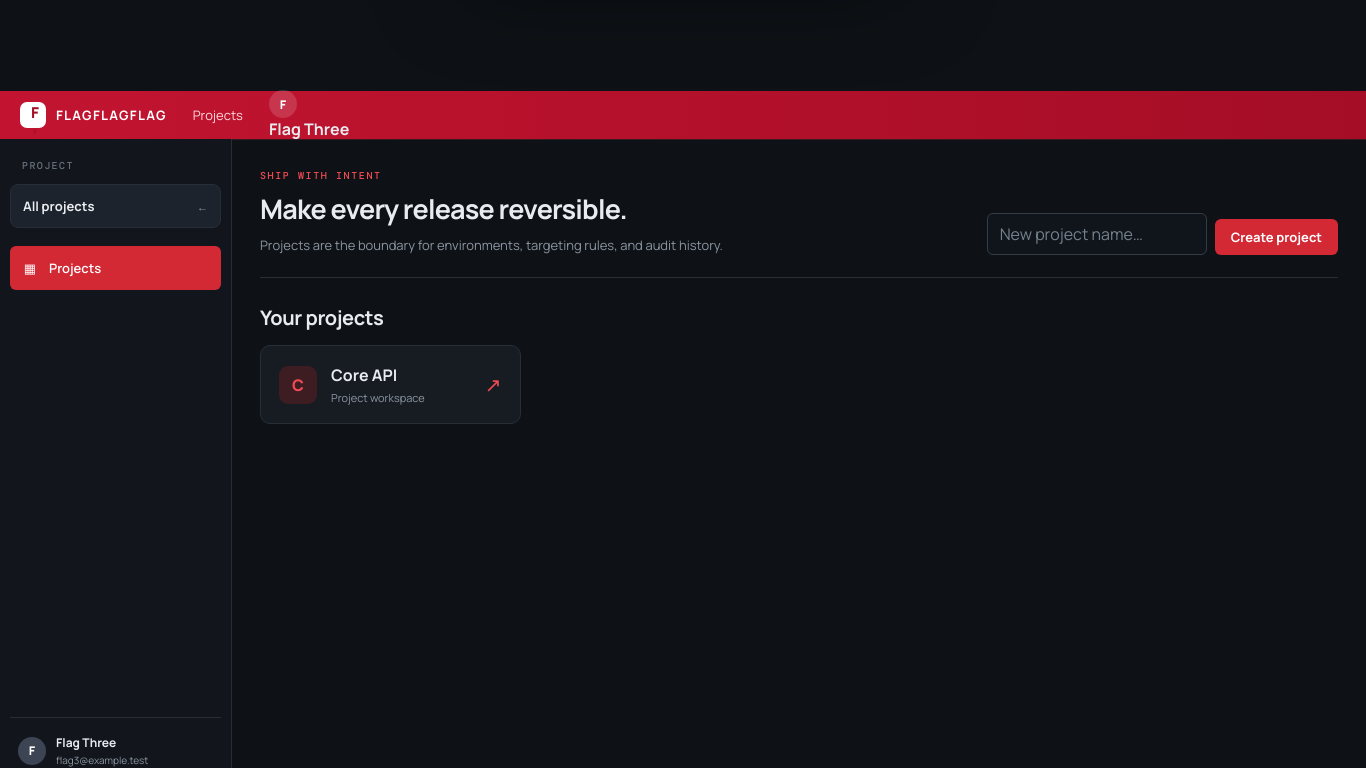
Scenario: admin control plane › creates, renames, selects, and deletes environments from the rendered workspace
(page scrolled)
expect the text "Core API" is shown: met, box [331,364,397,386]
Click the button "C Core API Project workspace ↗" at coordinates (390, 385), box [260,345,520,424]
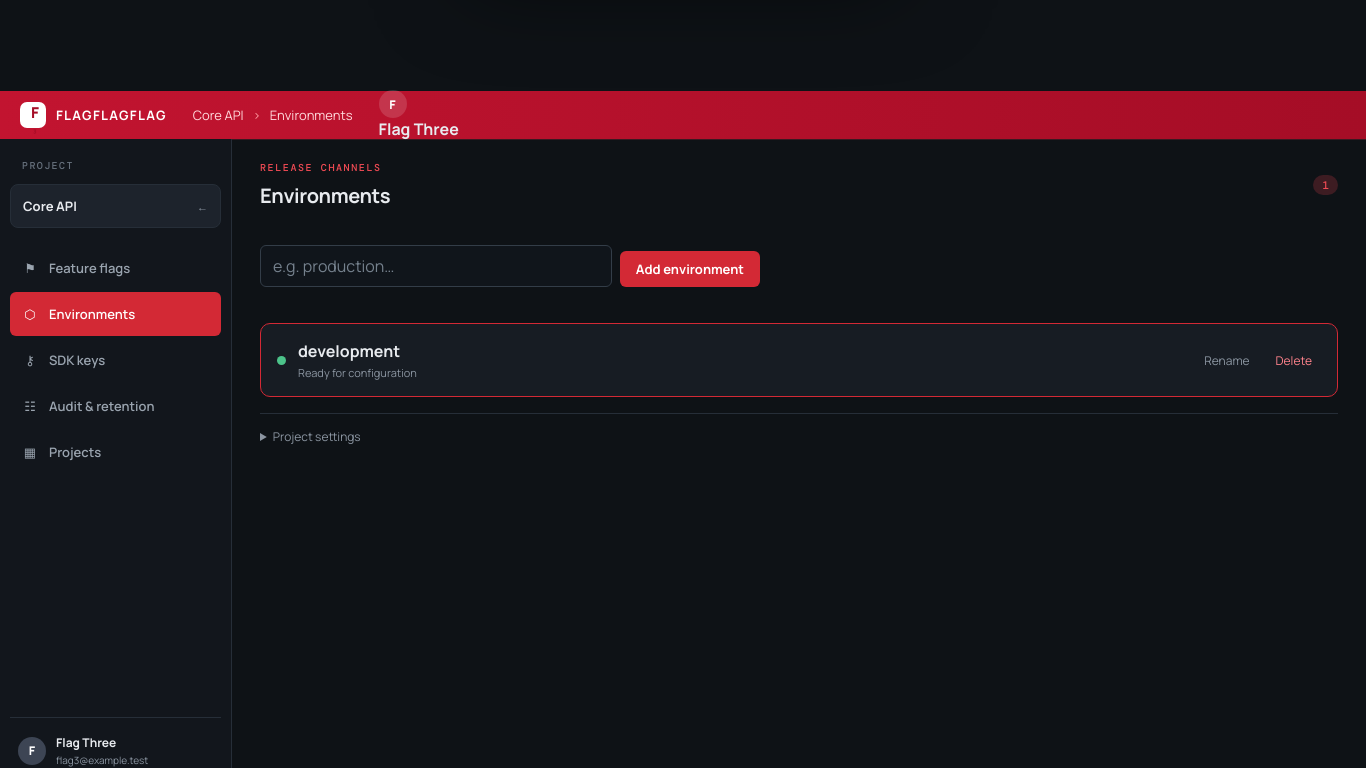
expect the text "development" is shown: met, box [298,340,417,362]
Type "staging" into the field named "Environment name" at coordinates (436, 266), box [260,245,612,287]
Click the button "Add environment" at coordinates (690, 269), box [620,251,760,287]
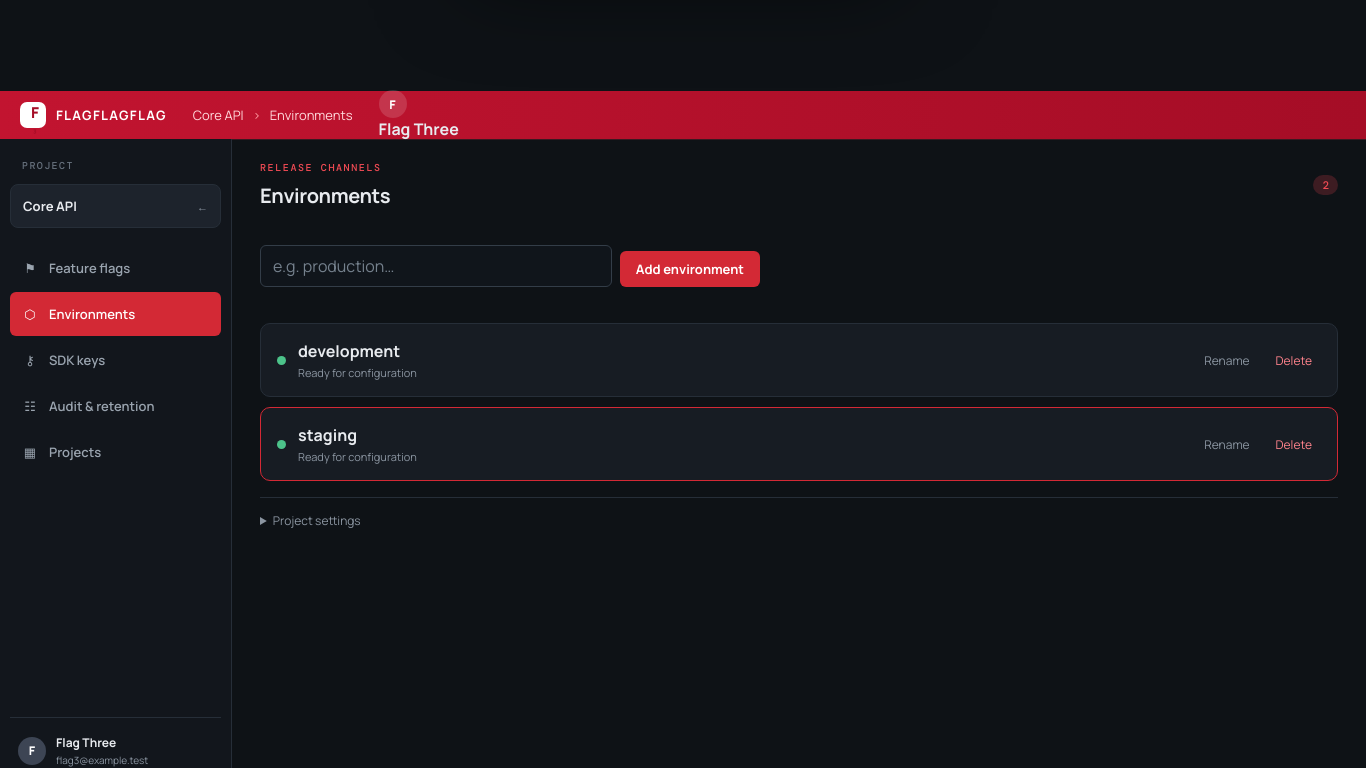
expect the text "staging" is shown: met, box [298,424,357,446]
Click the 1st button "Rename" at coordinates (1227, 360), box [1195,338,1258,382]
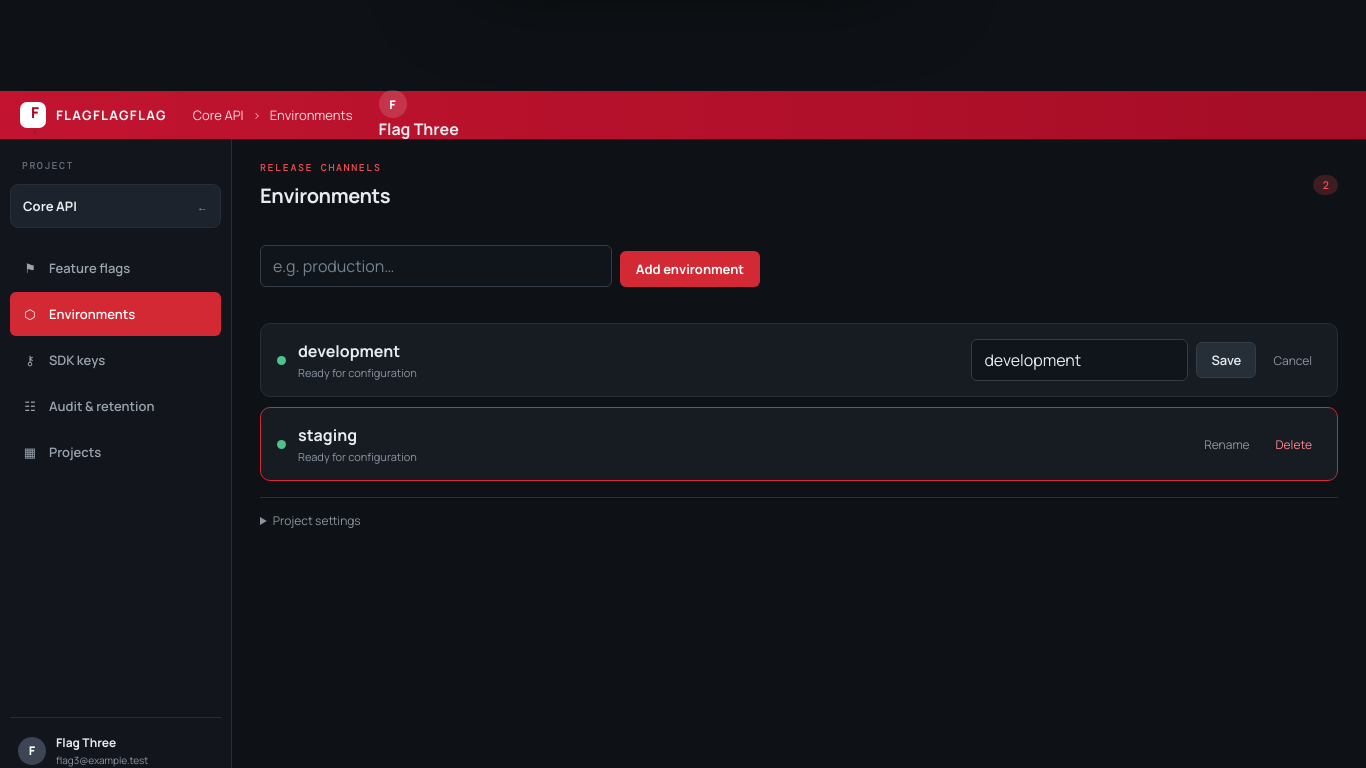
Replace the text in the field named "New name" with "preview" at coordinates (1080, 360), box [971,339,1188,381]
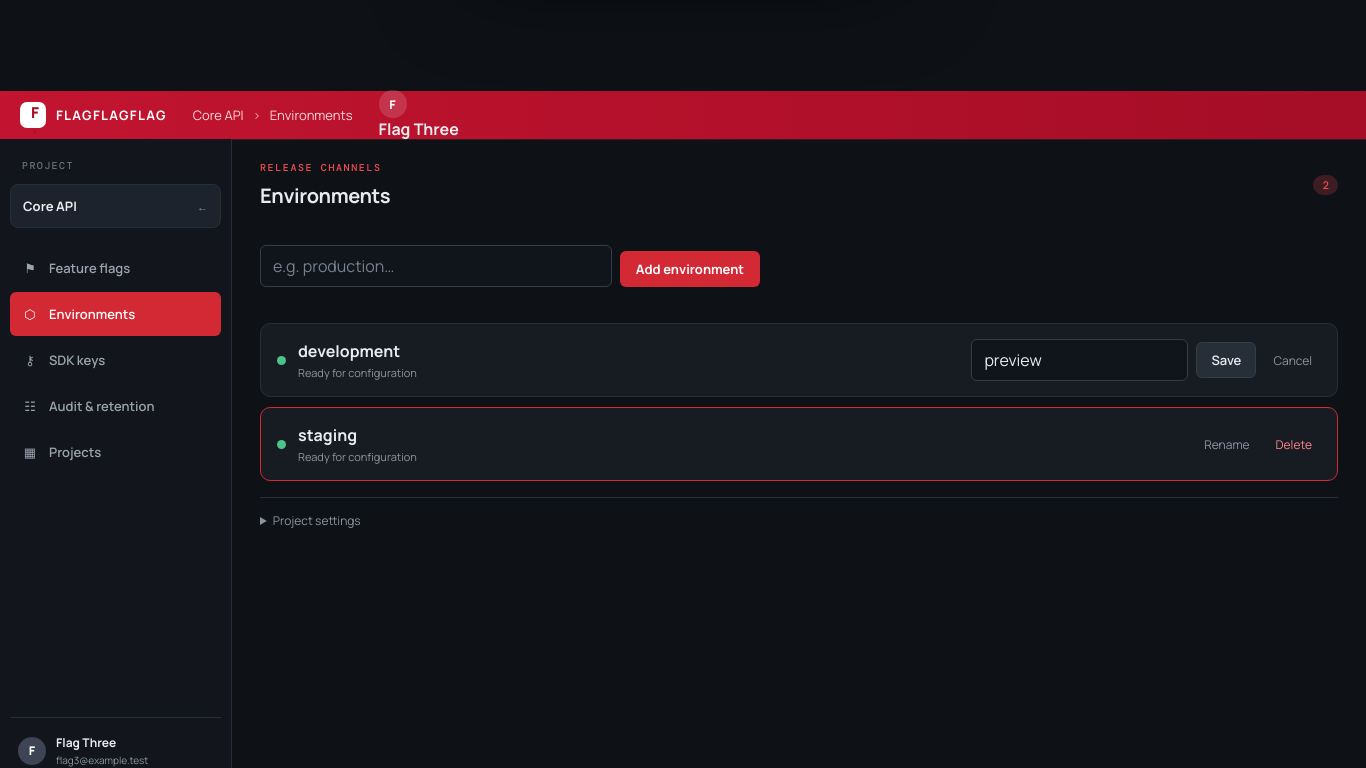
Click the button "Save" at coordinates (1226, 360), box [1196,342,1256,378]
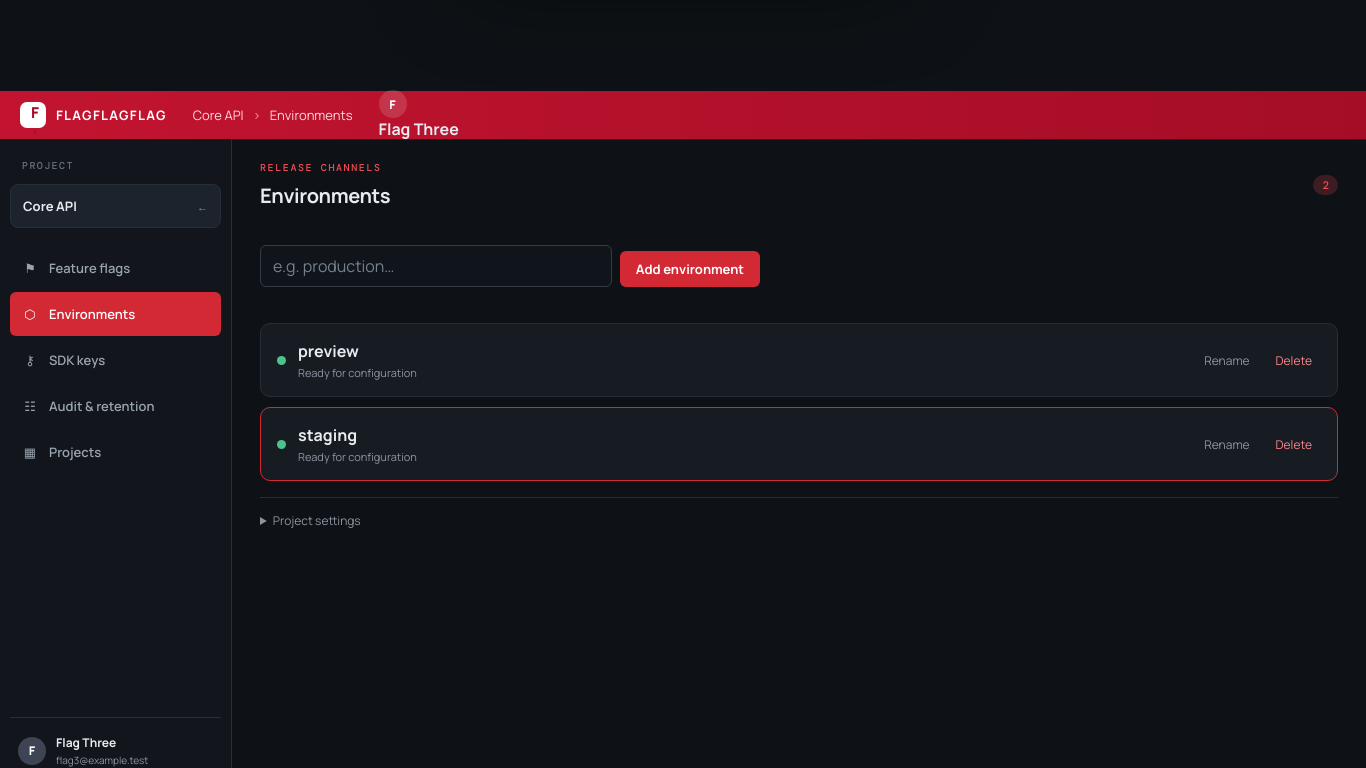
expect the text "preview" is shown: met, box [298,340,359,362]
Click the 1st button "Delete" at coordinates (1294, 360), box [1266,338,1321,382]
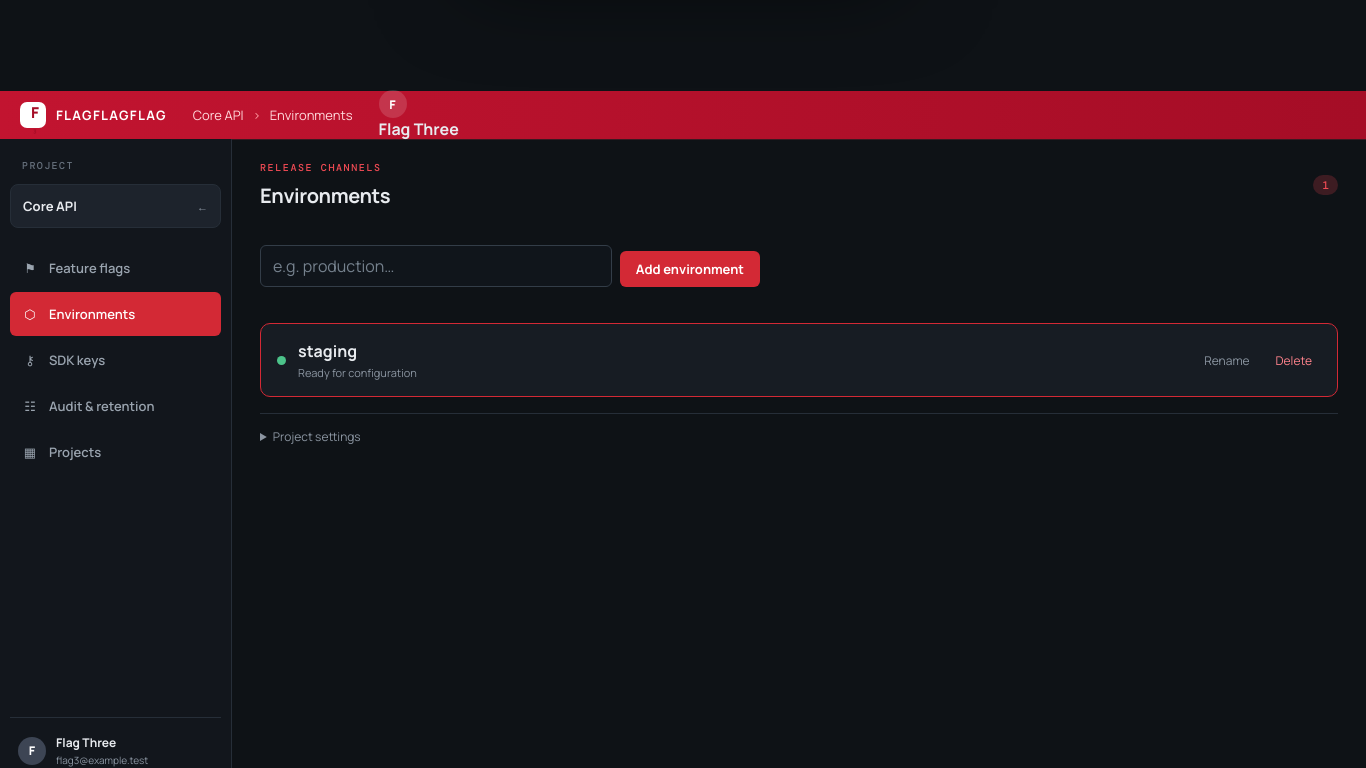
expect the button "preview" is gone: met
